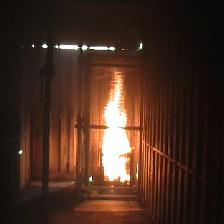fire: (102, 68, 131, 182)
